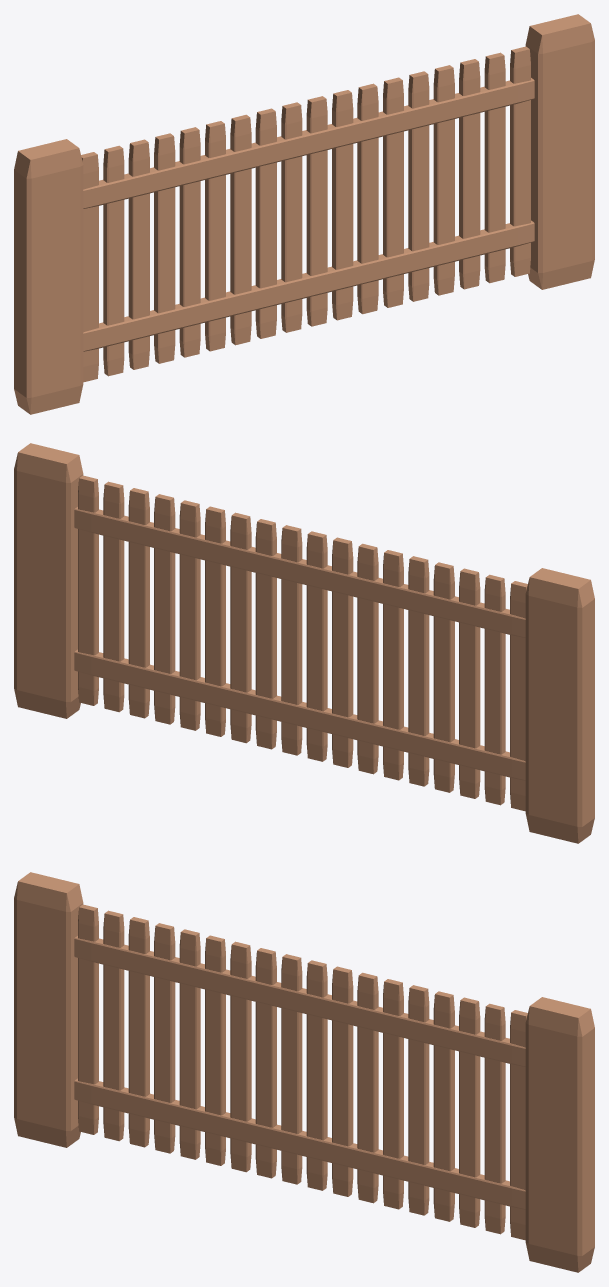
The model's file is b19_chainlink_double_vehicle_gate.glb.
3 views of the same model, one above another, from view 1: azimuth 30°, elevation 25°; view 2: azimuth 150°, elevation 25°; view 3: azimuth 330°, elevation 25° (orthographic).
Visible parts, largest first — view 1: b19_chainlink_double_vehicle_gate; view 2: b19_chainlink_double_vehicle_gate; view 3: b19_chainlink_double_vehicle_gate.
Part boxes in pixels (<box>): b19_chainlink_double_vehicle_gate: <box>14,14,594,414</box>; b19_chainlink_double_vehicle_gate: <box>14,443,594,843</box>; b19_chainlink_double_vehicle_gate: <box>14,872,594,1272</box>.
Size of the model in its own units: 4.5 by 1.93 by 0.2.
